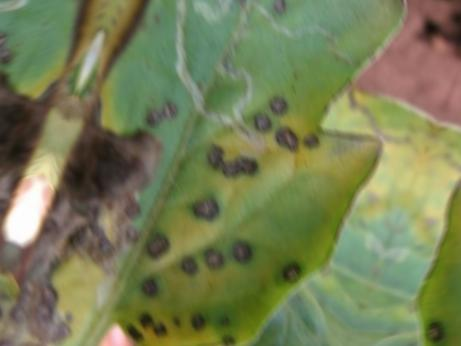Tomato Septoria leaf spot: (20, 0, 444, 346)
